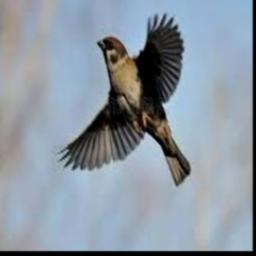Sparrow: (57, 11, 190, 187)
